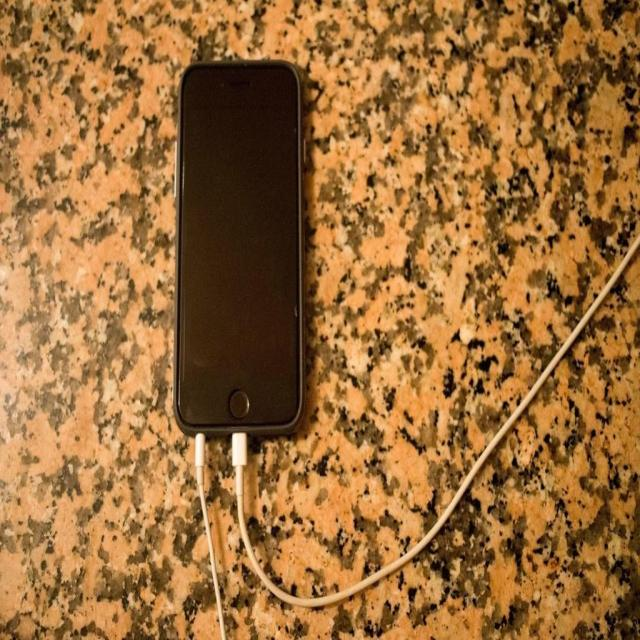Phone: (172, 58, 302, 439)
